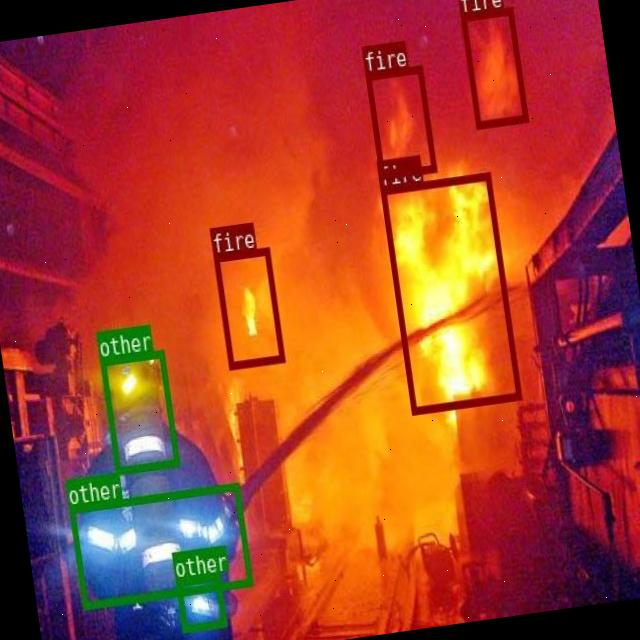fire: (379, 171, 521, 413), (212, 246, 284, 370), (460, 7, 528, 128), (365, 64, 436, 178)
